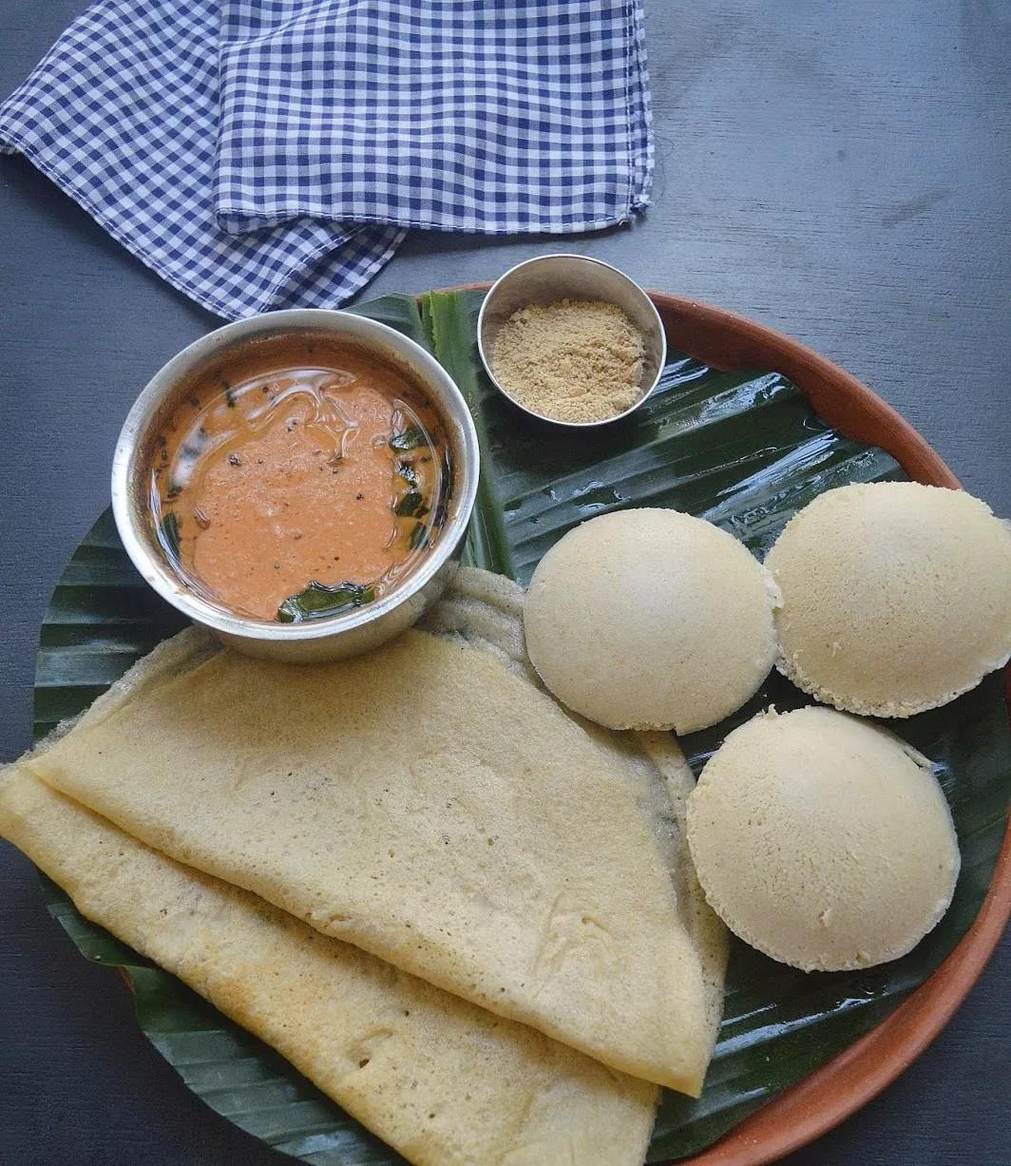Idli: (685, 705, 957, 974), (758, 474, 1009, 718), (522, 506, 779, 738)
